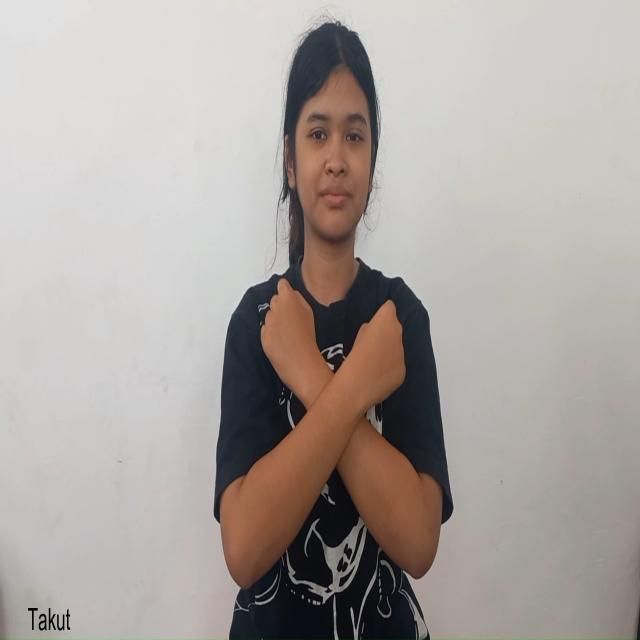Takut -BISINDO-: (236, 277, 424, 591)
